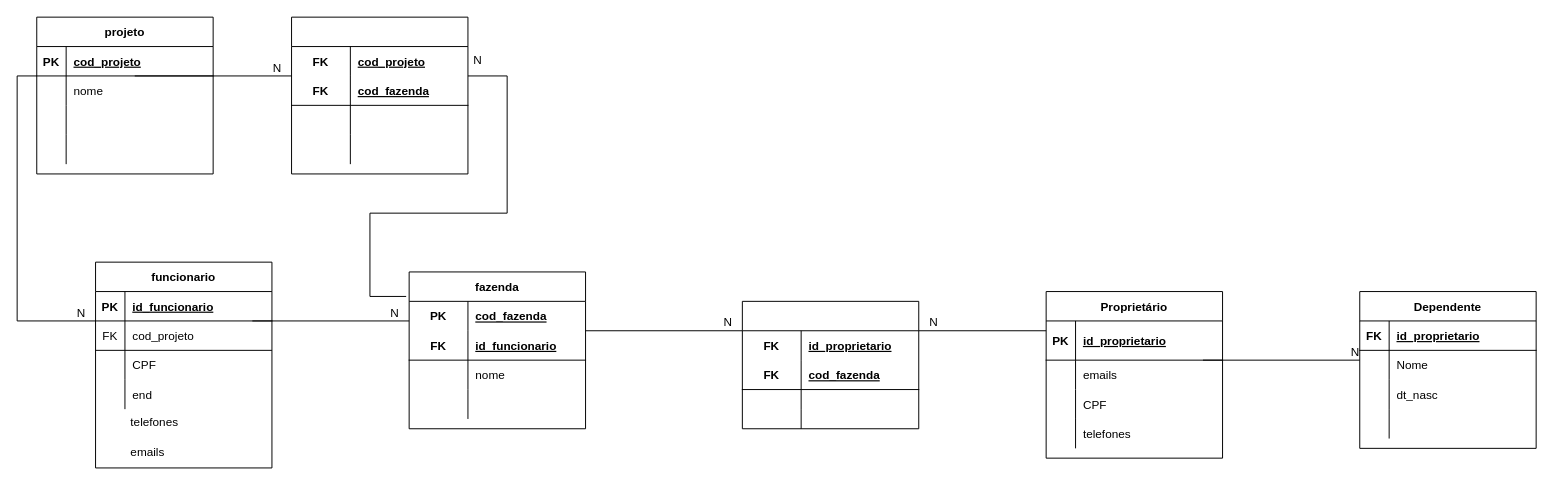
The diagram is 1553 pixels wide and 488 high, and some of its shapes have lost their labels. The box of each missing label's shape, as (x1, y1, x2, y2) in pixels:
projeto_fazenda: (291, 16, 468, 174)
Proprietario_fazenda: (741, 300, 919, 429)
